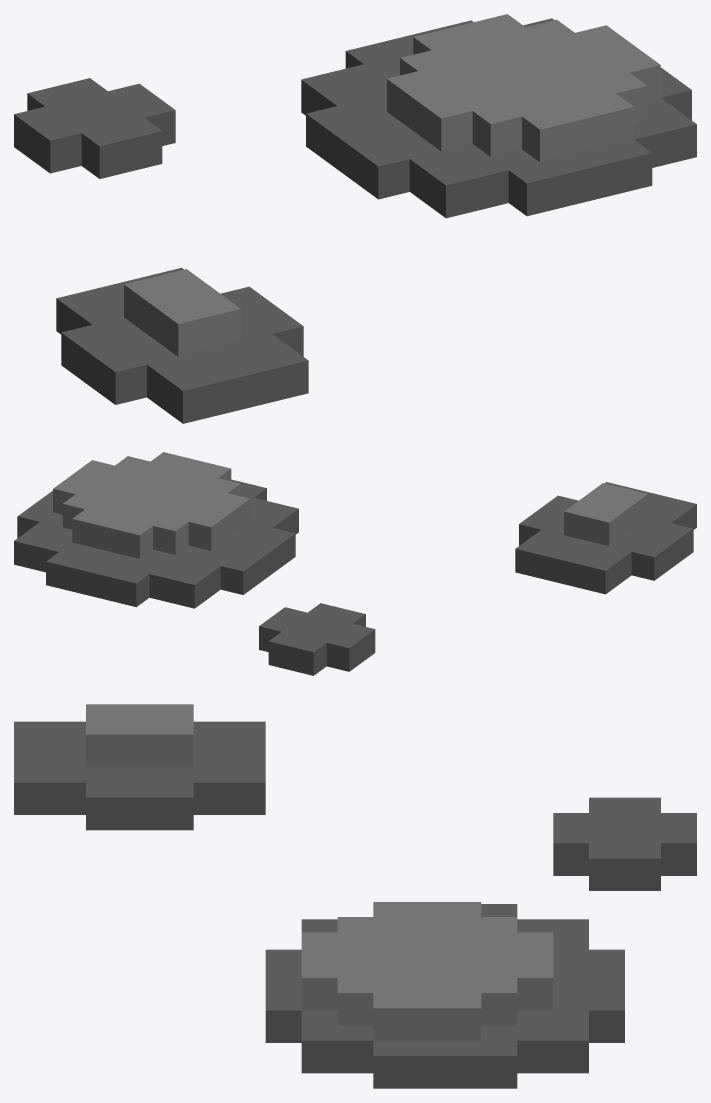
Rendered from kivia.gltf.
3 views of the same model, one above another, from view 1: azimuth 30°, elevation 25°; view 2: azimuth 150°, elevation 25°; view 3: azimuth 270°, elevation 25° (orthographic). The views are drawn at different scales.
Visible parts, largest first — view 1: Layer.1; view 2: Layer.1; view 3: Layer.1.
Boxes of the visible parts, x1,y1,x2,y2 form: Layer.1: (14,14,696,423); Layer.1: (14,452,696,675); Layer.1: (14,704,696,1088).
Size of the model in its own units: 23 by 2 by 19.
Materials: 1 (1 with a texture image).
